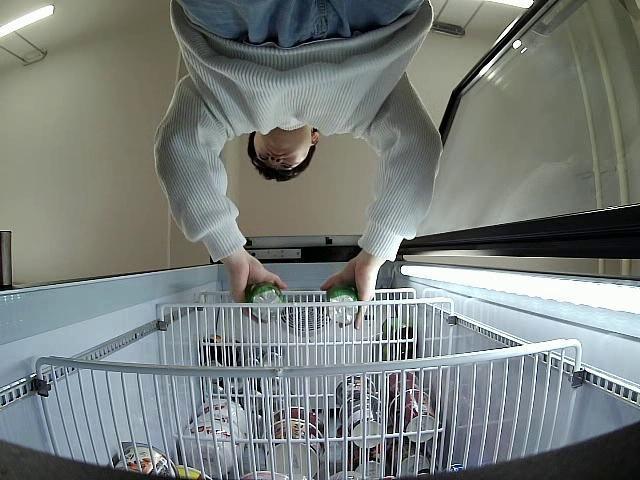18_trevi: (248, 282, 286, 322), (327, 286, 359, 324)
